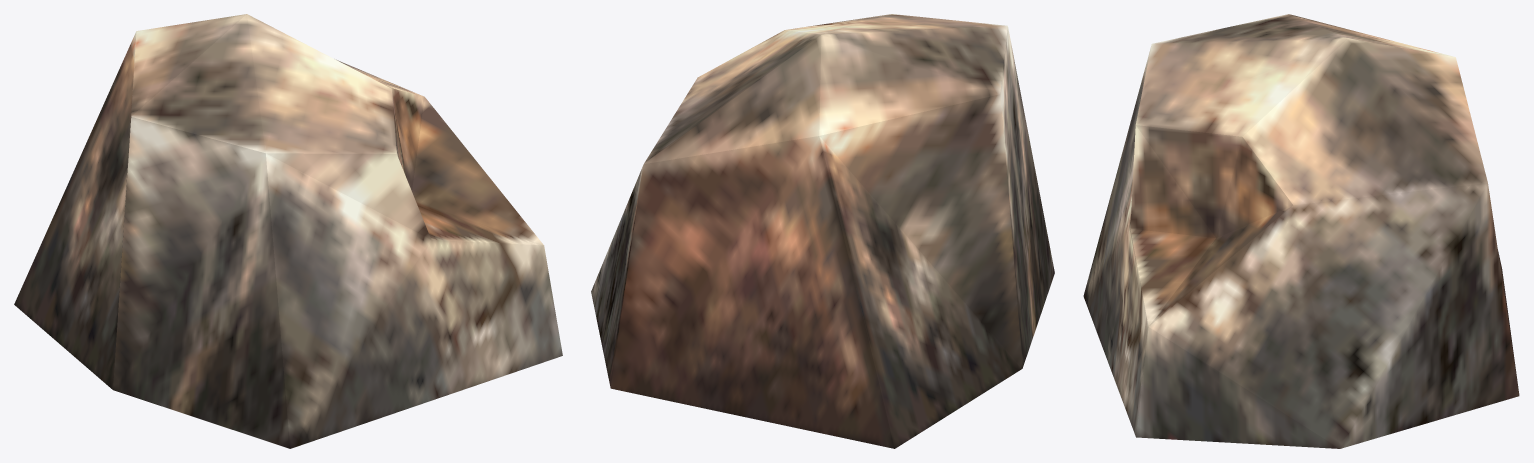
3 views of the same model, side by side, from view 1: azimuth 30°, elevation 25°; view 2: azimuth 150°, elevation 25°; view 3: azimuth 270°, elevation 25° (orthographic). The views are drawn at different scales.
Parts seen in each view (by area): view 1: Stone; view 2: Stone; view 3: Stone.
Part boxes in pixels (x1,y1,x2,y2): Stone: [14, 14, 562, 448]; Stone: [591, 14, 1054, 448]; Stone: [1083, 14, 1519, 448].
Size of the model in its own units: 38.66 by 29.06 by 38.14.
Materials: 1 (1 with a texture image).
